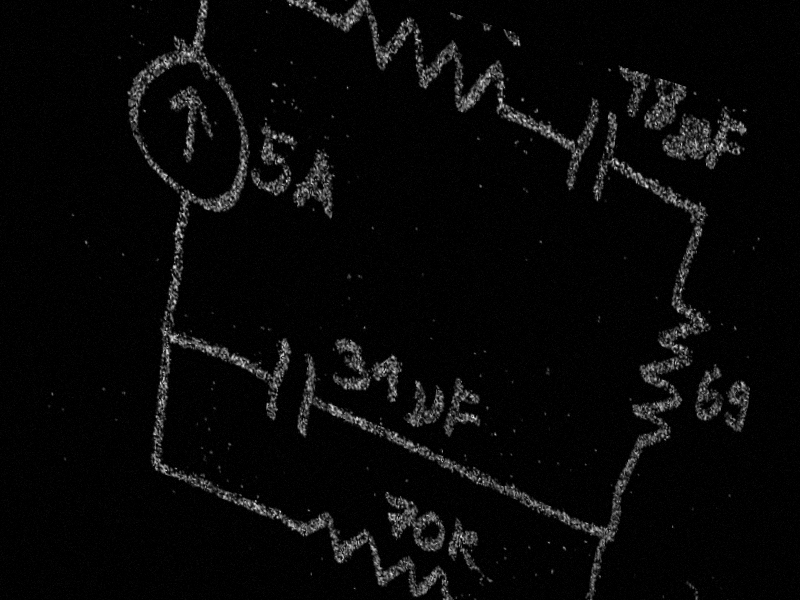0: (411, 505, 448, 558)
1: (368, 342, 406, 409)
3: (325, 330, 375, 401), (439, 9, 473, 29)
4: (609, 64, 654, 126)
5: (248, 115, 300, 205), (386, 0, 439, 14)
6: (689, 357, 731, 433)
7: (377, 486, 420, 549)
8: (643, 75, 687, 142)
9: (720, 373, 750, 438)
A: (291, 141, 340, 223)
F: (707, 104, 749, 186), (444, 374, 485, 452)
k: (447, 514, 484, 575), (475, 21, 526, 55)
u: (405, 373, 447, 437), (672, 109, 712, 173)
